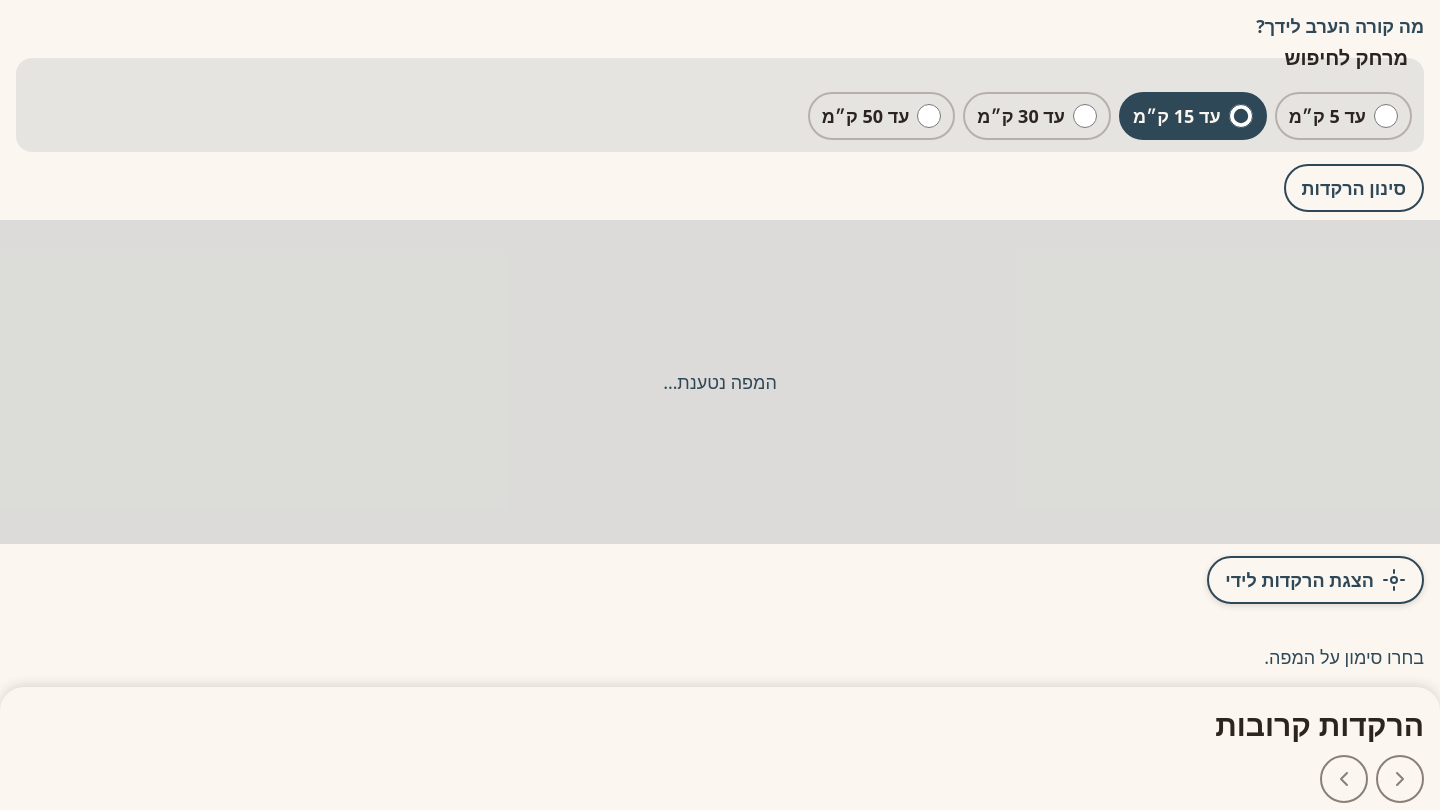
Test case: NearbyDances with overlapping proximity requests › queues a radius change until the pending GPS-centred request resolves
This screenshot has width=1440, height=810.
Click the button "הצגת הרקדות לידי" at (1316, 580), box [1207, 556, 1424, 604]
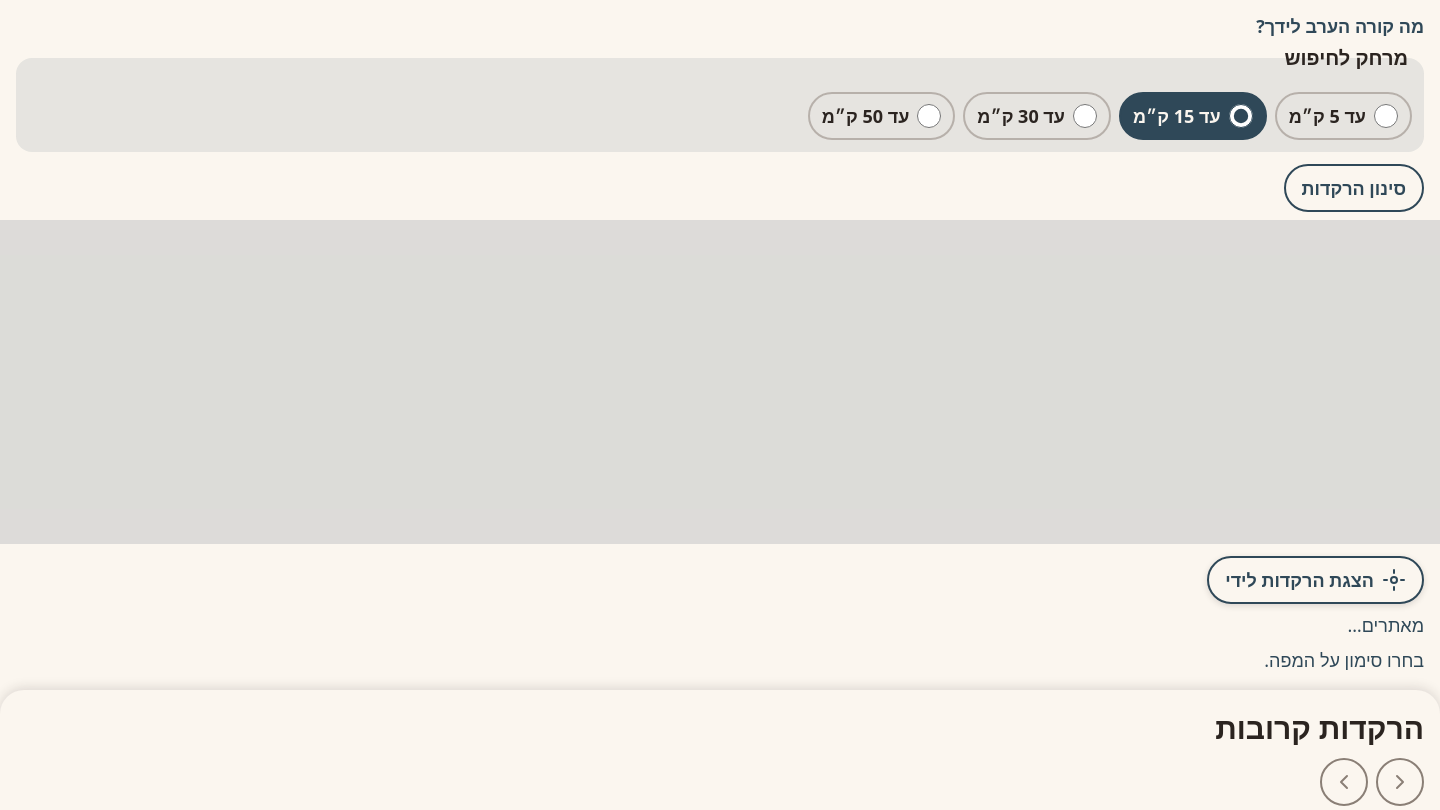
Click the radio button labelled "עד 30 ק״מ" at (1085, 116), box [1073, 104, 1097, 128]
(page scrolled)
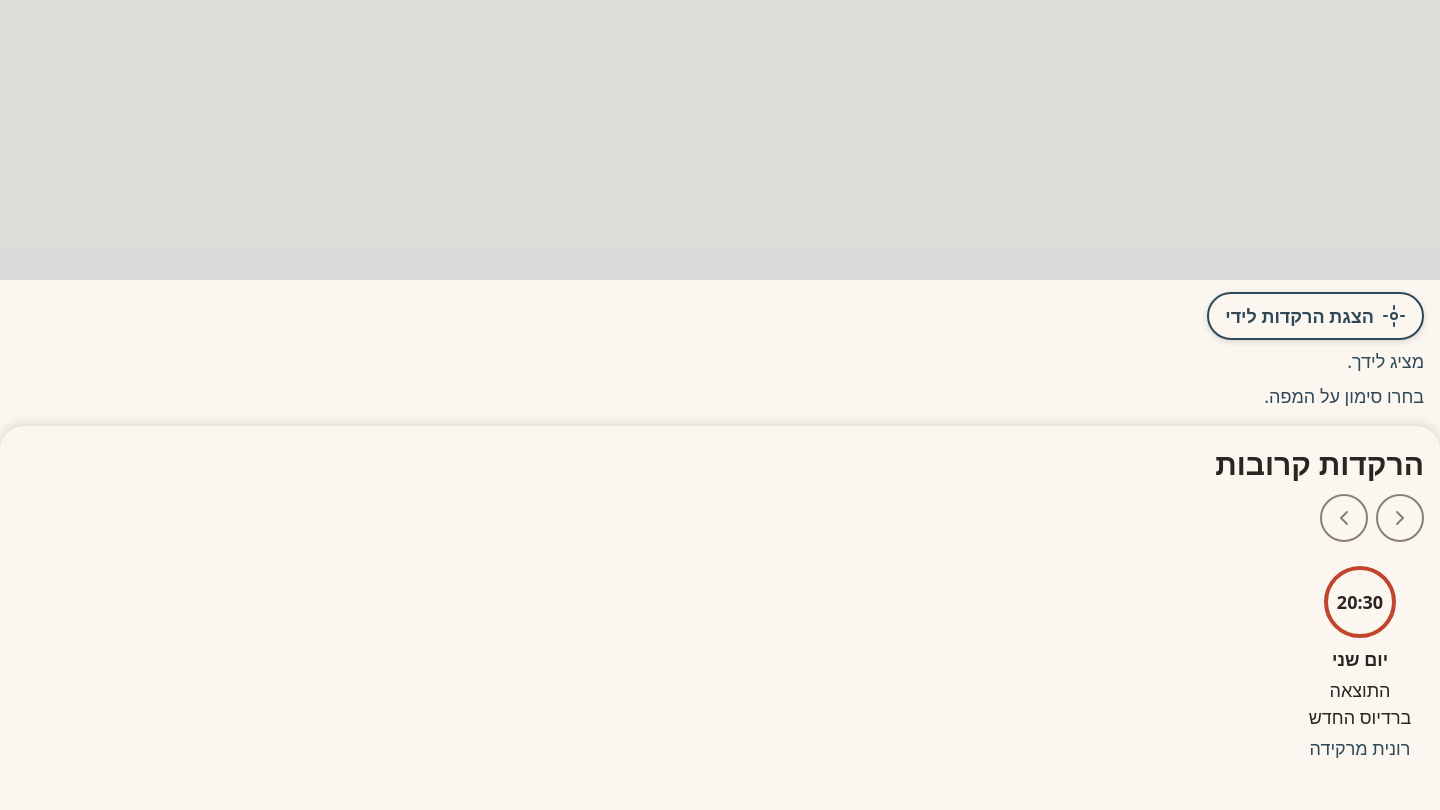
Check: the list named "רשימת ההרקדות הקרובות" shows "התוצאה ברדיוס החדש", box [1309, 678, 1411, 729]
